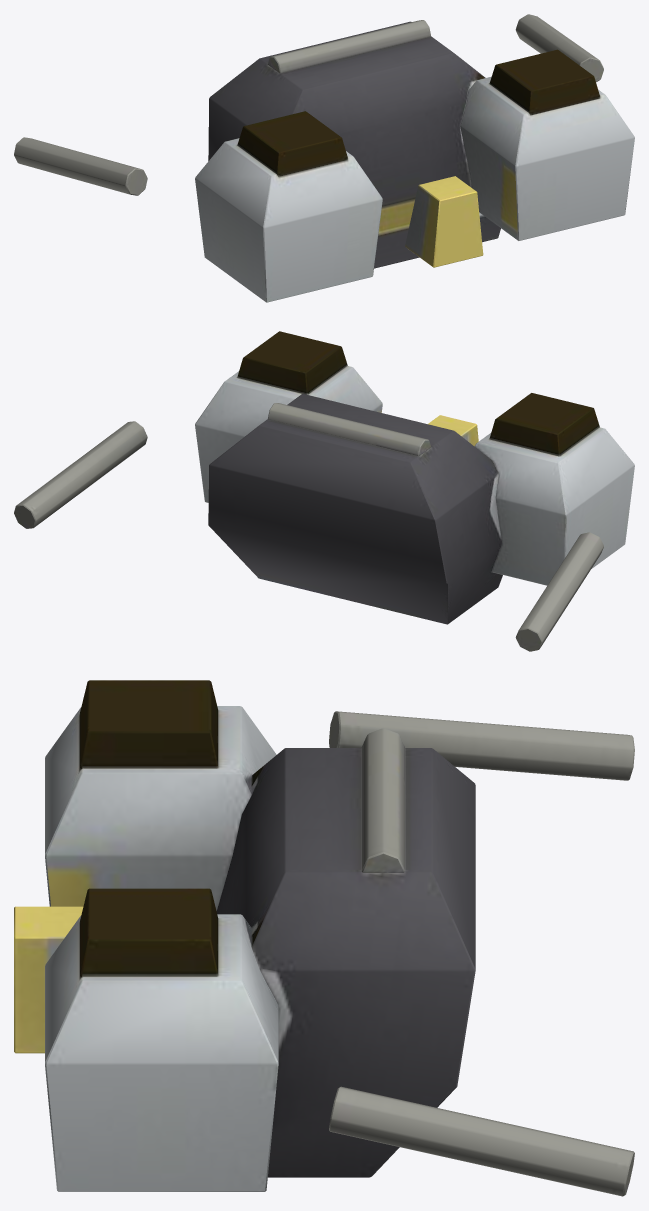
Rendered from IT_respirator.glb.
The picture shows the model from 3 angles, top to bottom: view 1: azimuth 30°, elevation 25°; view 2: azimuth 150°, elevation 25°; view 3: azimuth 270°, elevation 25°; orthographic projection. The views are drawn at different scales.
Parts seen in each view (by area): view 1: IT_respirator; view 2: IT_respirator; view 3: IT_respirator.
Boxes of the visible parts, x1,y1,x2,y2 form: IT_respirator: [14, 14, 634, 302]; IT_respirator: [14, 331, 634, 651]; IT_respirator: [14, 680, 634, 1196].
Size of the model in its own units: 0.8382 by 0.2775 by 0.5043.
Materials: 1 (1 with a texture image).
